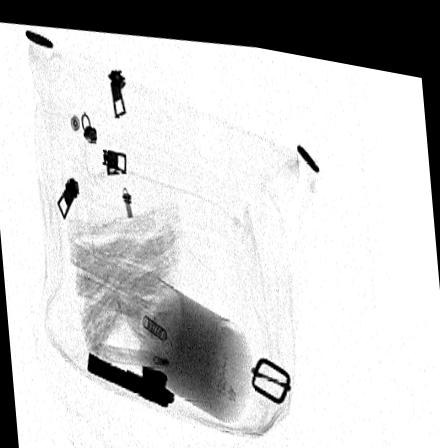Gun: (86, 348, 175, 401)
